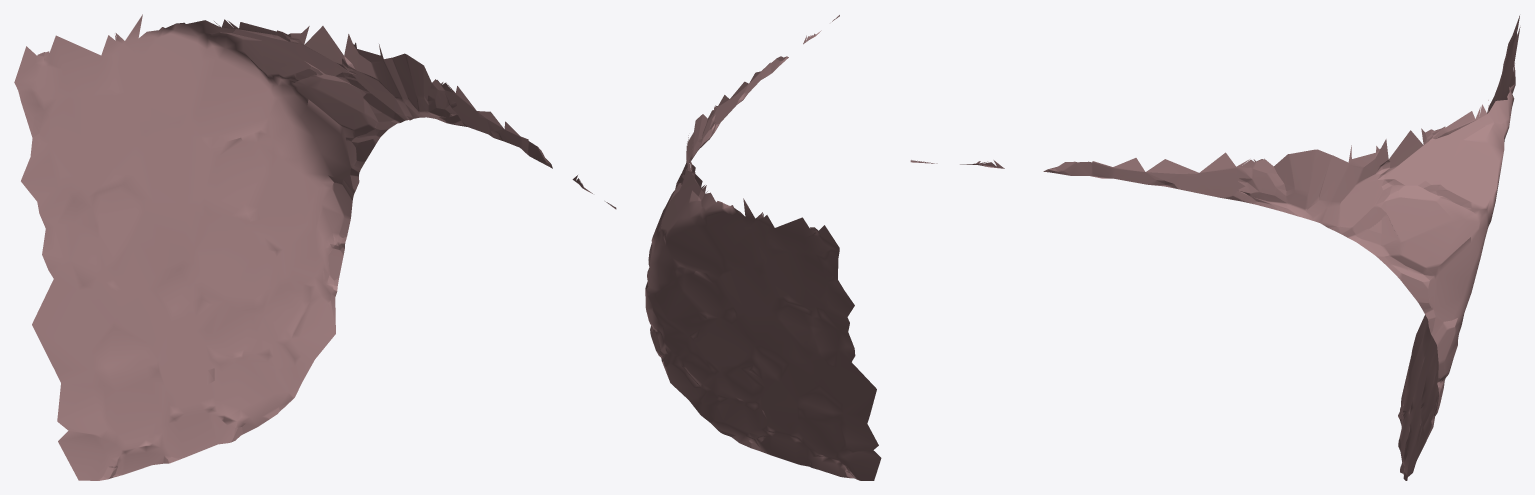
The model's file is plateau.fbx_Rock_Plateau_004LODs.fbx.
The picture shows the model from 3 angles, left to right: view 1: azimuth 30°, elevation 25°; view 2: azimuth 150°, elevation 25°; view 3: azimuth 270°, elevation 25°; orthographic projection. The views are drawn at different scales.
Visible parts, largest first — view 1: Rock Plateau.004_LOD0; view 2: Rock Plateau.004_LOD0; view 3: Rock Plateau.004_LOD0.
Part boxes in pixels (x1,y1,x2,y2): Rock Plateau.004_LOD0: (14, 14, 616, 480); Rock Plateau.004_LOD0: (645, 15, 881, 480); Rock Plateau.004_LOD0: (910, 15, 1520, 480).
Size of what is drawn, in the model's own units: 5058 by 5983 by 8266.
